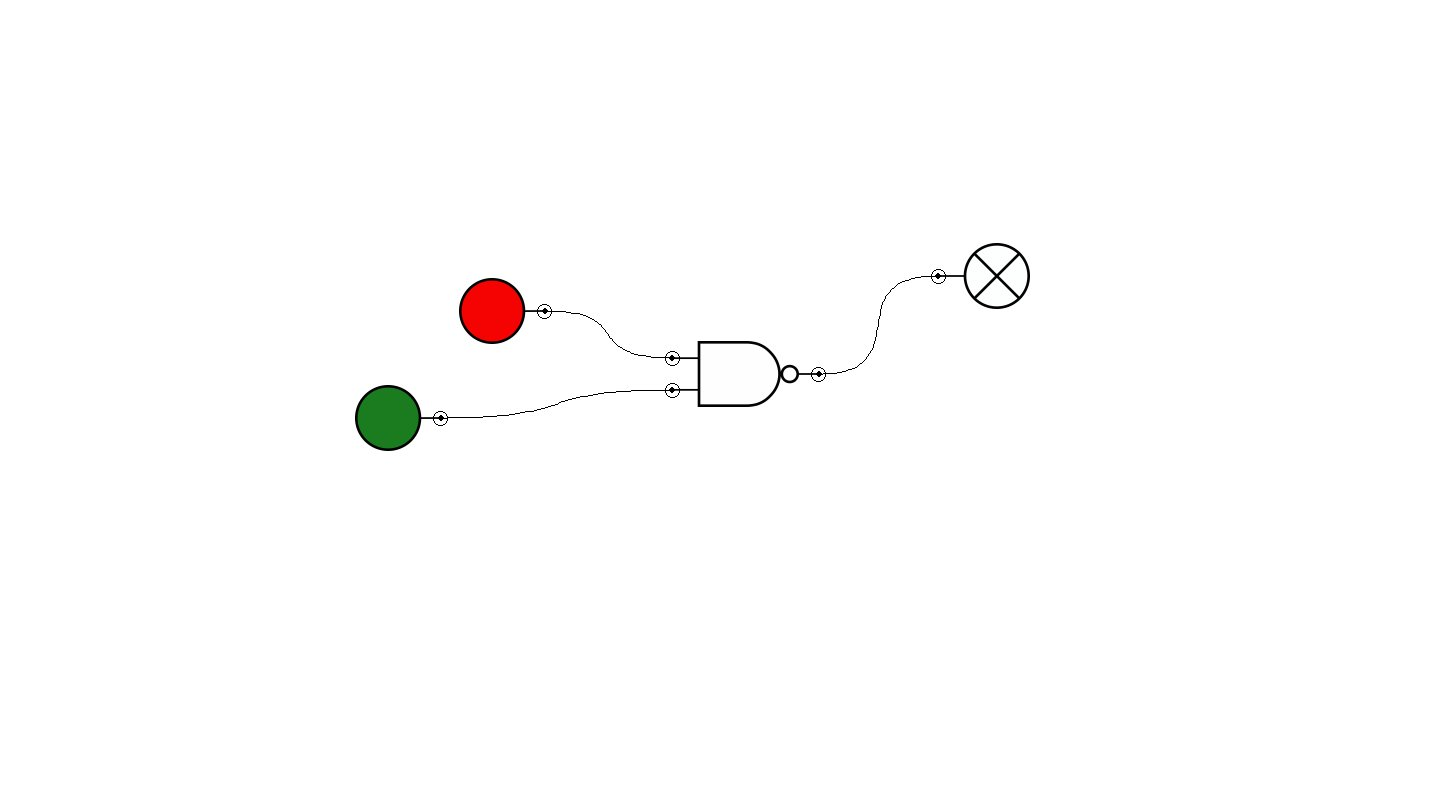bulb: (931, 243, 1030, 309)
nand: (665, 341, 826, 407)
switch_False: (459, 278, 552, 344)
switch_True: (355, 385, 448, 451)
